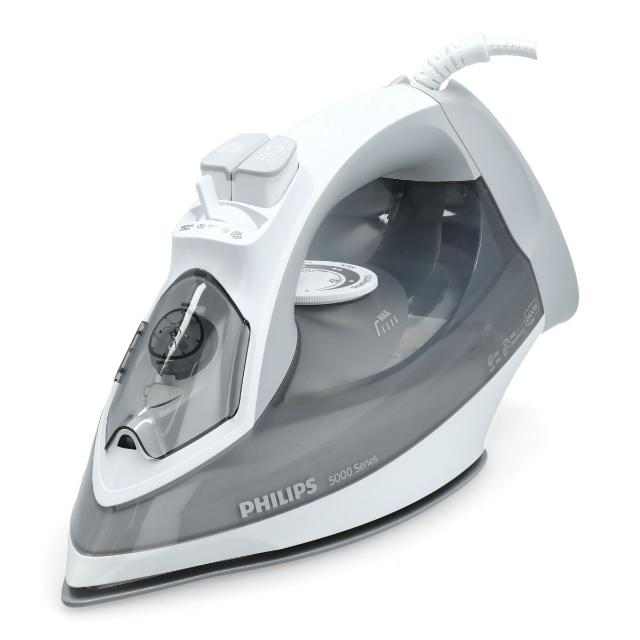Clothes-Iron: (54, 67, 586, 607)
